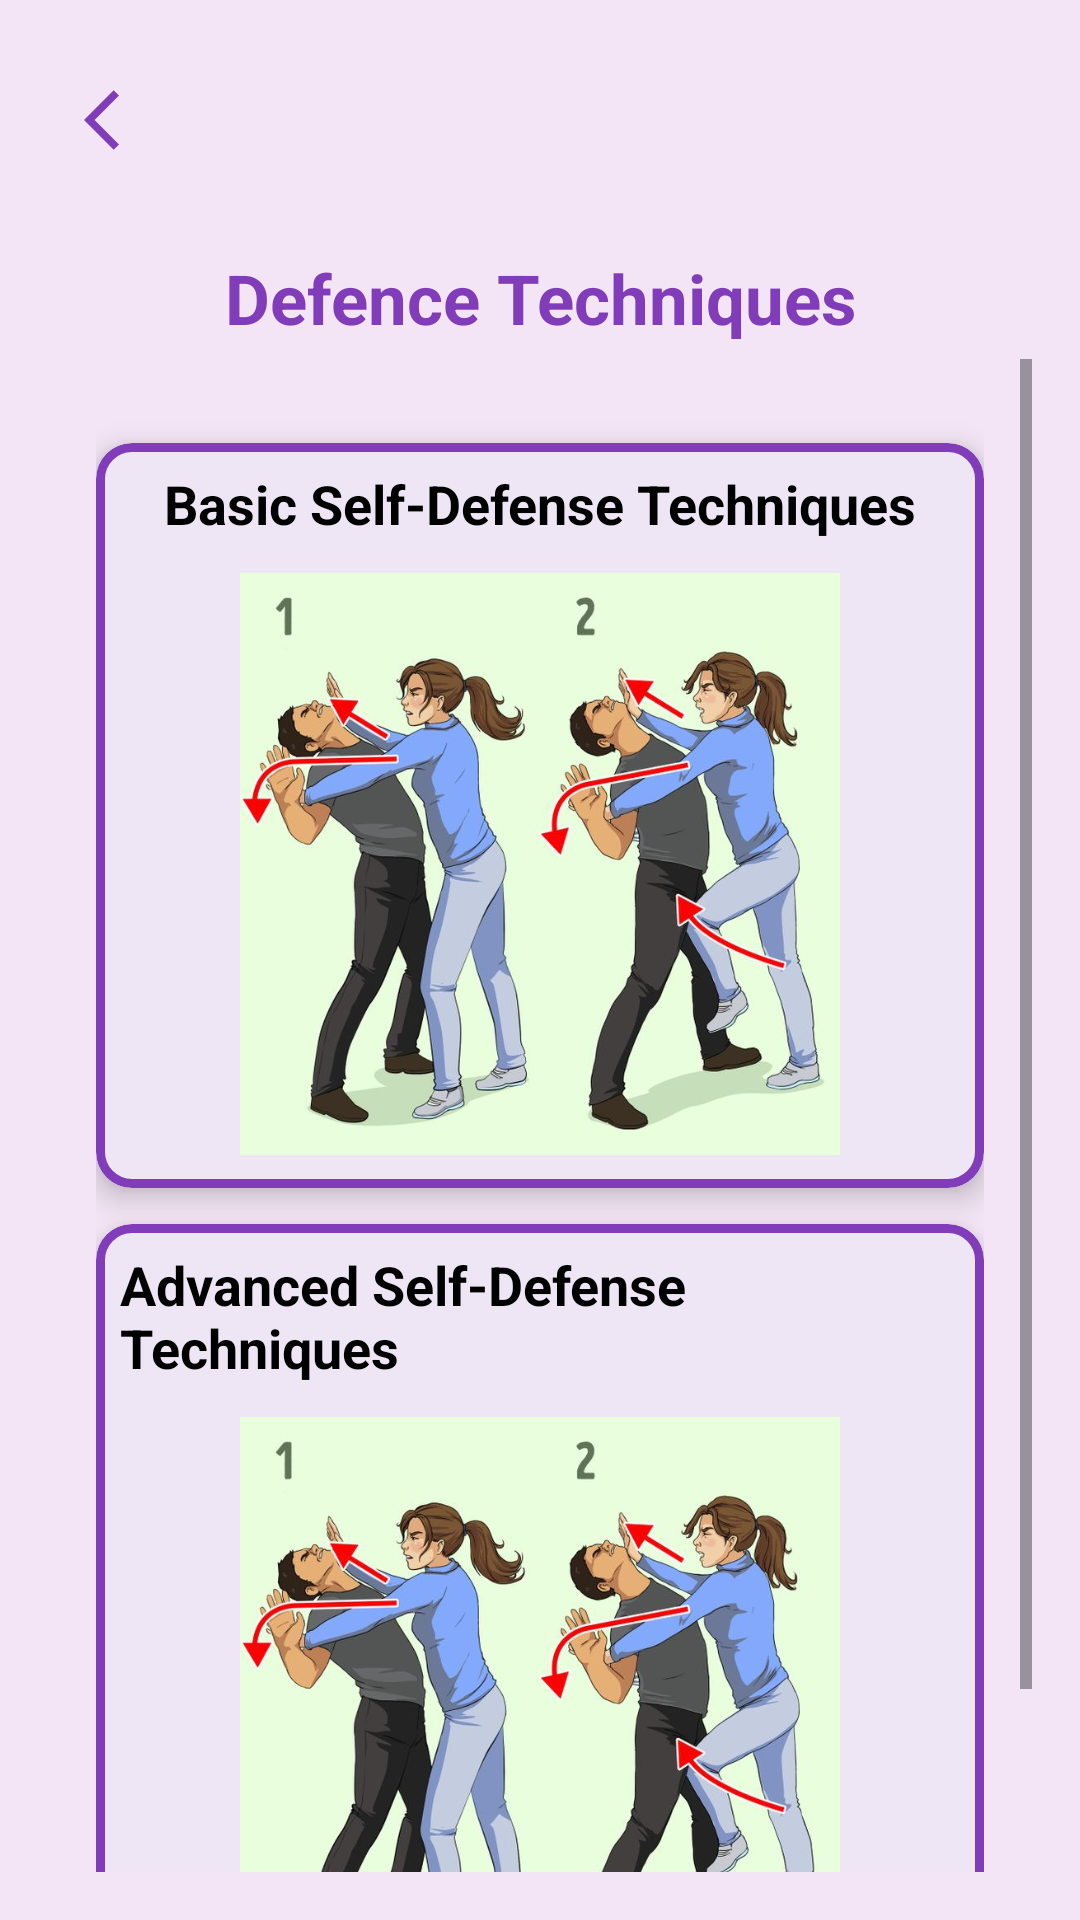

Screen size 1080px×1920px. Icon name, then its center in pixels as (x,y):
Back to home page: (101,120)
